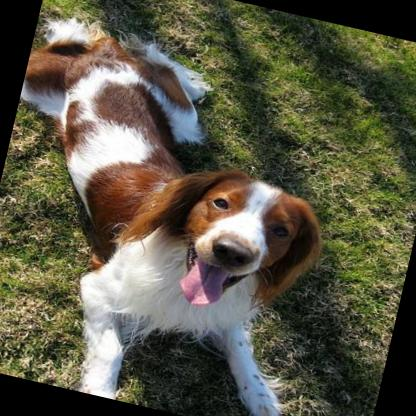Welsh_springer_spaniel: (0, 4, 360, 416)
